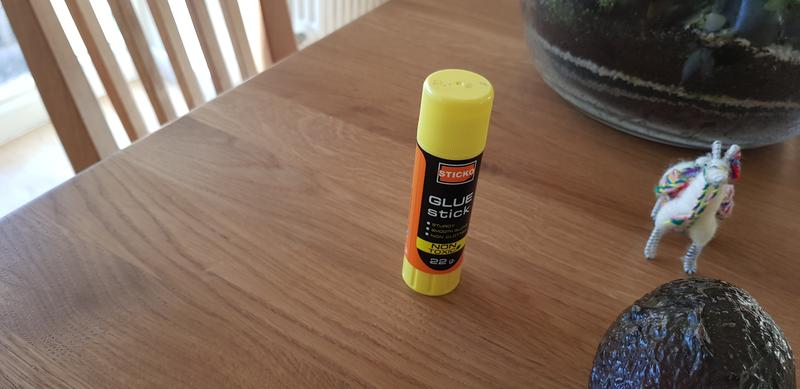Avocado: (585, 276, 792, 389)
Glue-Stick: (392, 64, 507, 307)
Horse-Toy: (638, 131, 736, 280)
